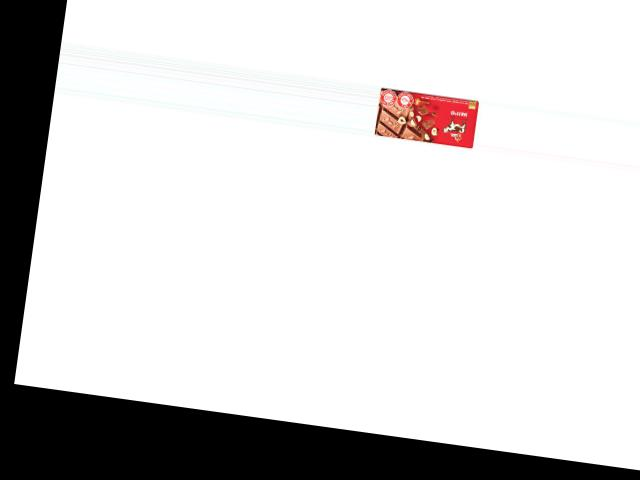chocolate: (374, 86, 479, 149)
